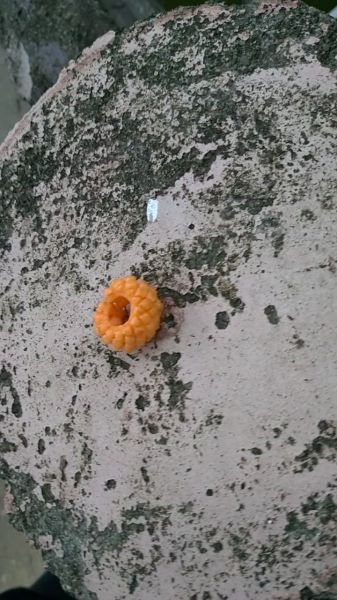eggs: (84, 274, 166, 355)
